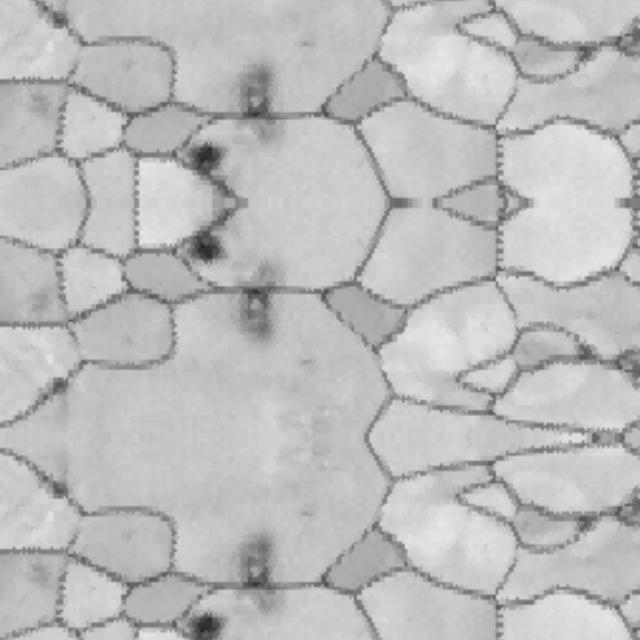good_void: (225, 527, 281, 610), (225, 265, 281, 347), (225, 57, 281, 139), (188, 224, 236, 268), (188, 136, 236, 180), (188, 607, 236, 640), (30, 283, 55, 316), (30, 88, 55, 121), (46, 367, 71, 399), (46, 5, 71, 37), (30, 559, 55, 591), (46, 476, 71, 507), (295, 354, 318, 366), (295, 38, 318, 50), (295, 509, 318, 520)
